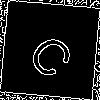C: (25, 25, 84, 83)
